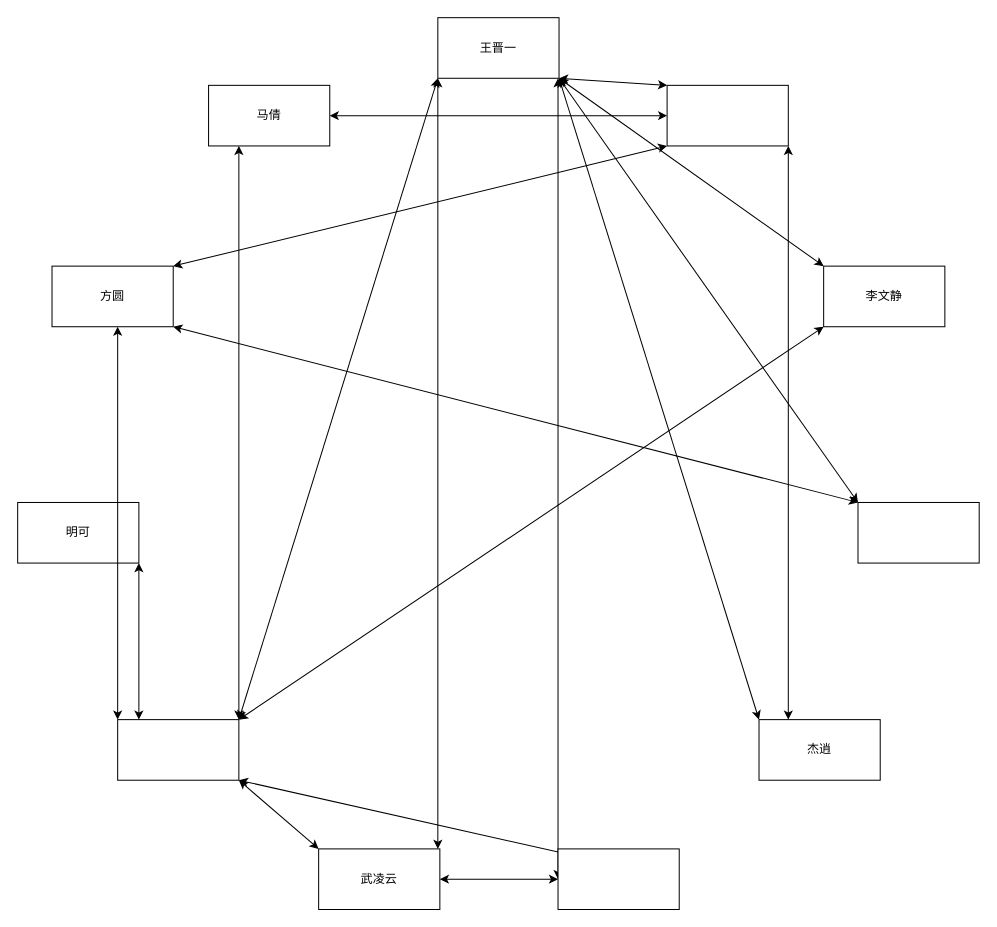
Image size: 997x927. Some labels were removed from this diagram. Each missing label, with the centre of its shape:
"方舒" belongs at (x=918, y=532).
"王昊江" belongs at (x=727, y=115).
"谢紫瑜" belongs at (x=178, y=749).
"邵嘉怡" belongs at (x=618, y=879).
